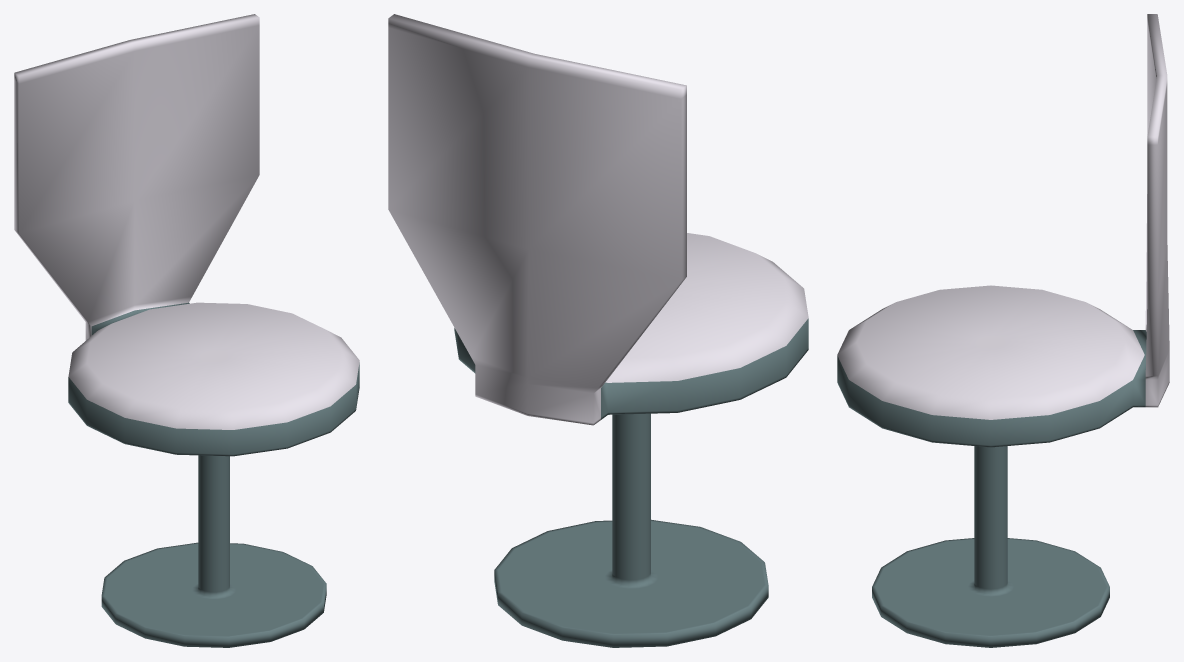
Rendered from Chairv2.gltf.
3 renders of one model, left to right at view 1: azimuth 30°, elevation 25°; view 2: azimuth 150°, elevation 25°; view 3: azimuth 270°, elevation 25°, orthographic. The views are drawn at different scales.
Visible parts, largest first — view 1: Chair; view 2: Chair; view 3: Chair.
Part boxes in pixels (<box>): Chair: <box>14,14,359,647</box>; Chair: <box>388,14,808,647</box>; Chair: <box>837,14,1169,647</box>.
Size of the model in its own units: 0.6093 by 1.14 by 0.6588.
